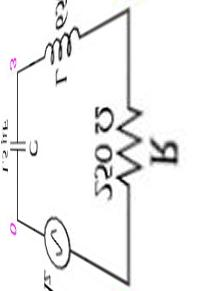inductor: (32, 21, 85, 65)
